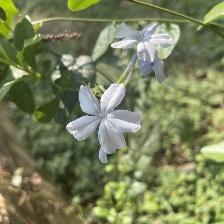chitrak: (72, 81, 135, 154)
